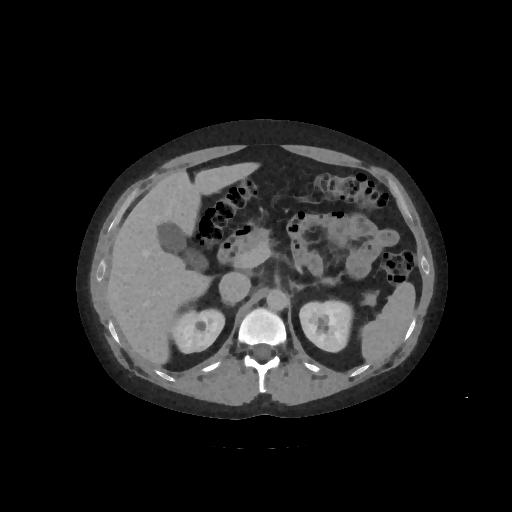Lesion: (193, 317, 210, 335)
